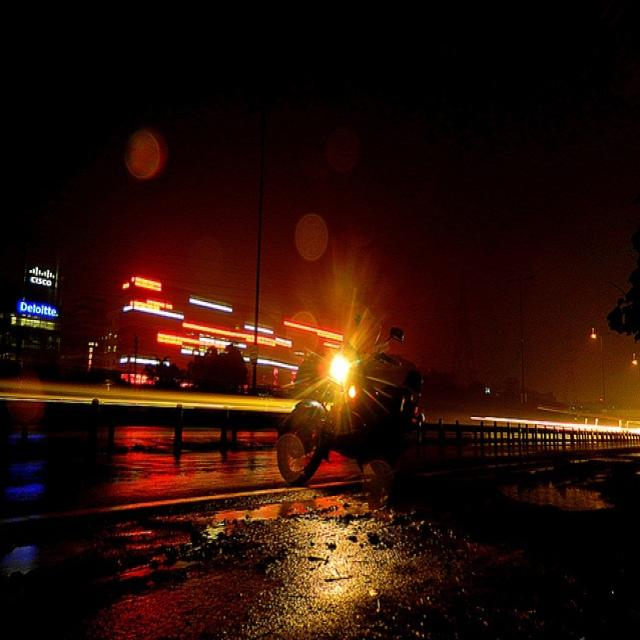Motorbike: (284, 309, 418, 512)
